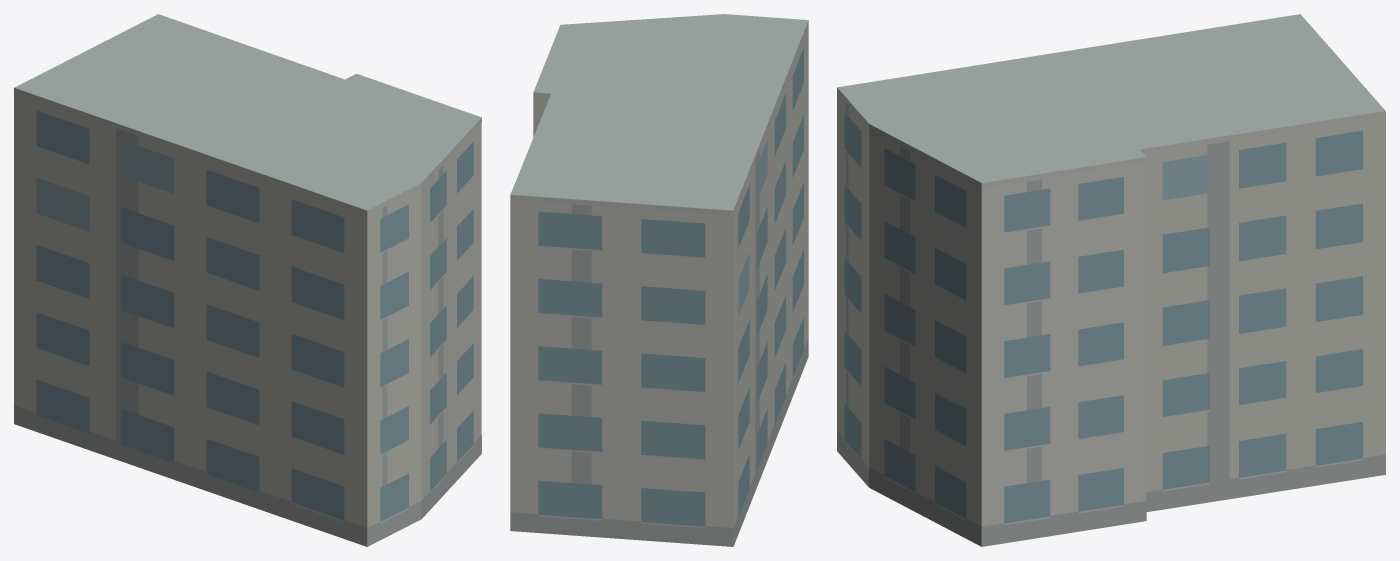
File: survey-upis-32764248.glb
3 views of the same model, side by side, from view 1: azimuth 30°, elevation 25°; view 2: azimuth 150°, elevation 25°; view 3: azimuth 270°, elevation 25° (orthographic). The views are drawn at different scales.
Parts seen in each view (by area): view 1: survey-upis-32764248.tmp; view 2: survey-upis-32764248.tmp; view 3: survey-upis-32764248.tmp.
Part boxes in pixels (<box>): survey-upis-32764248.tmp: <box>14,14,481,546</box>; survey-upis-32764248.tmp: <box>510,14,808,546</box>; survey-upis-32764248.tmp: <box>837,14,1385,546</box>.
Size of the model in its own units: 15.41 by 15.45 by 21.13.
